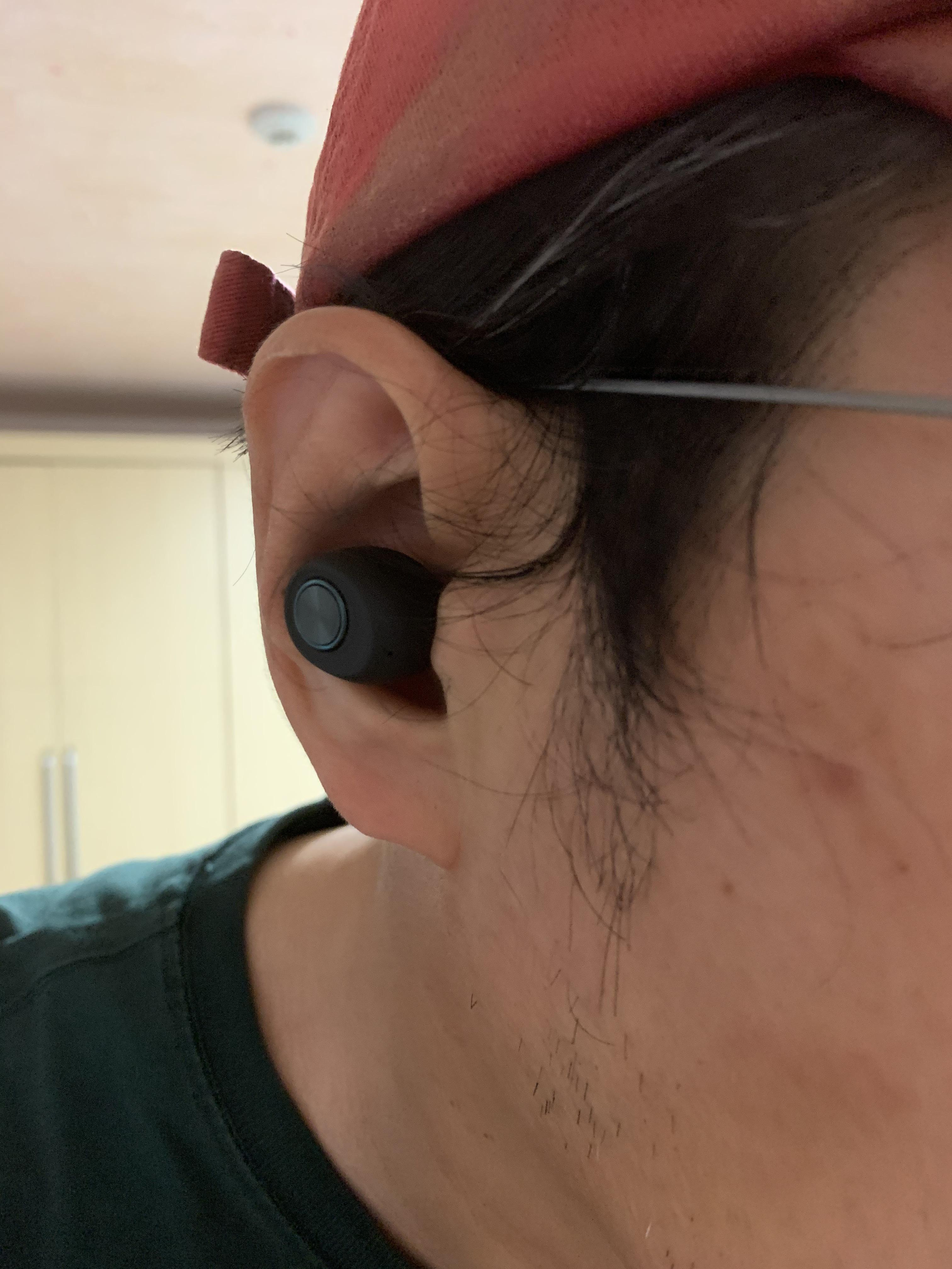earphone: (272, 526, 457, 697)
